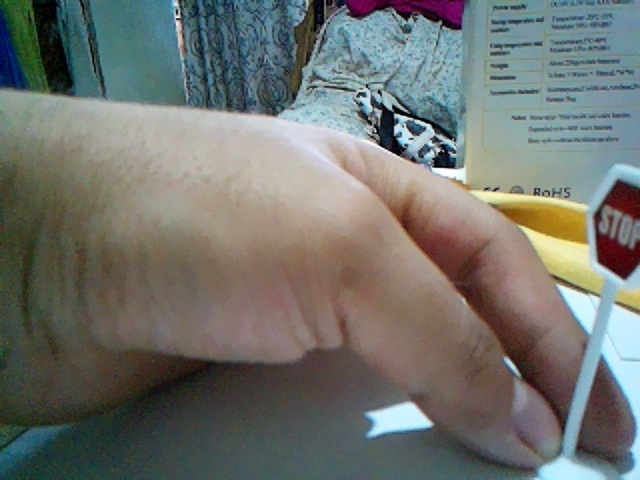stop_sign: (588, 165, 639, 282)
